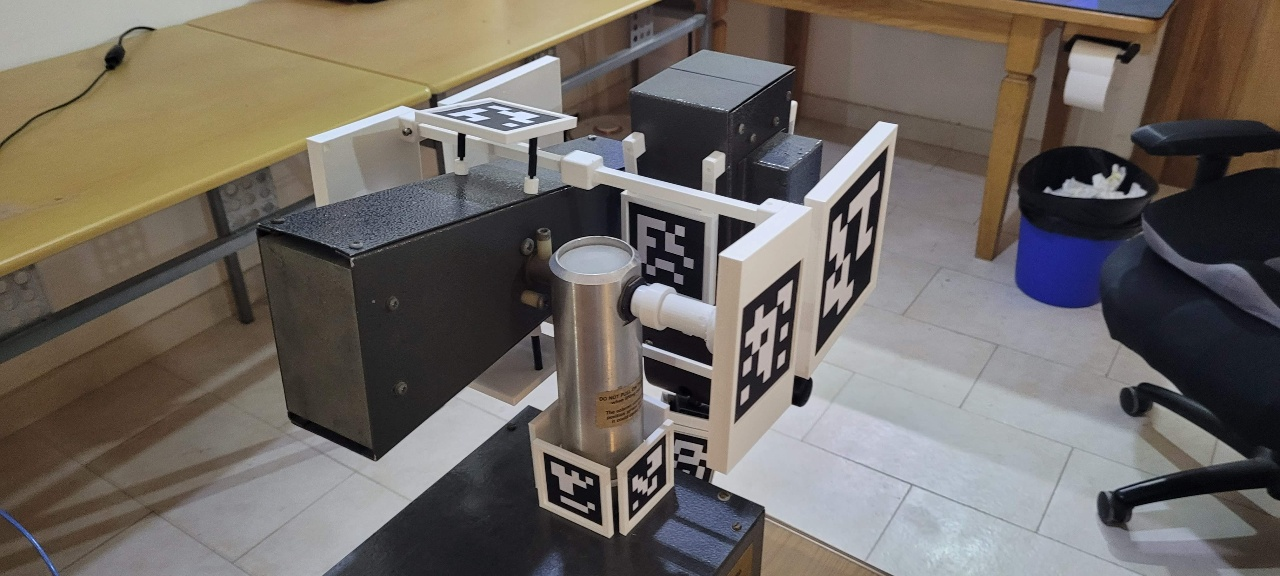Robot: (253, 45, 902, 540)
